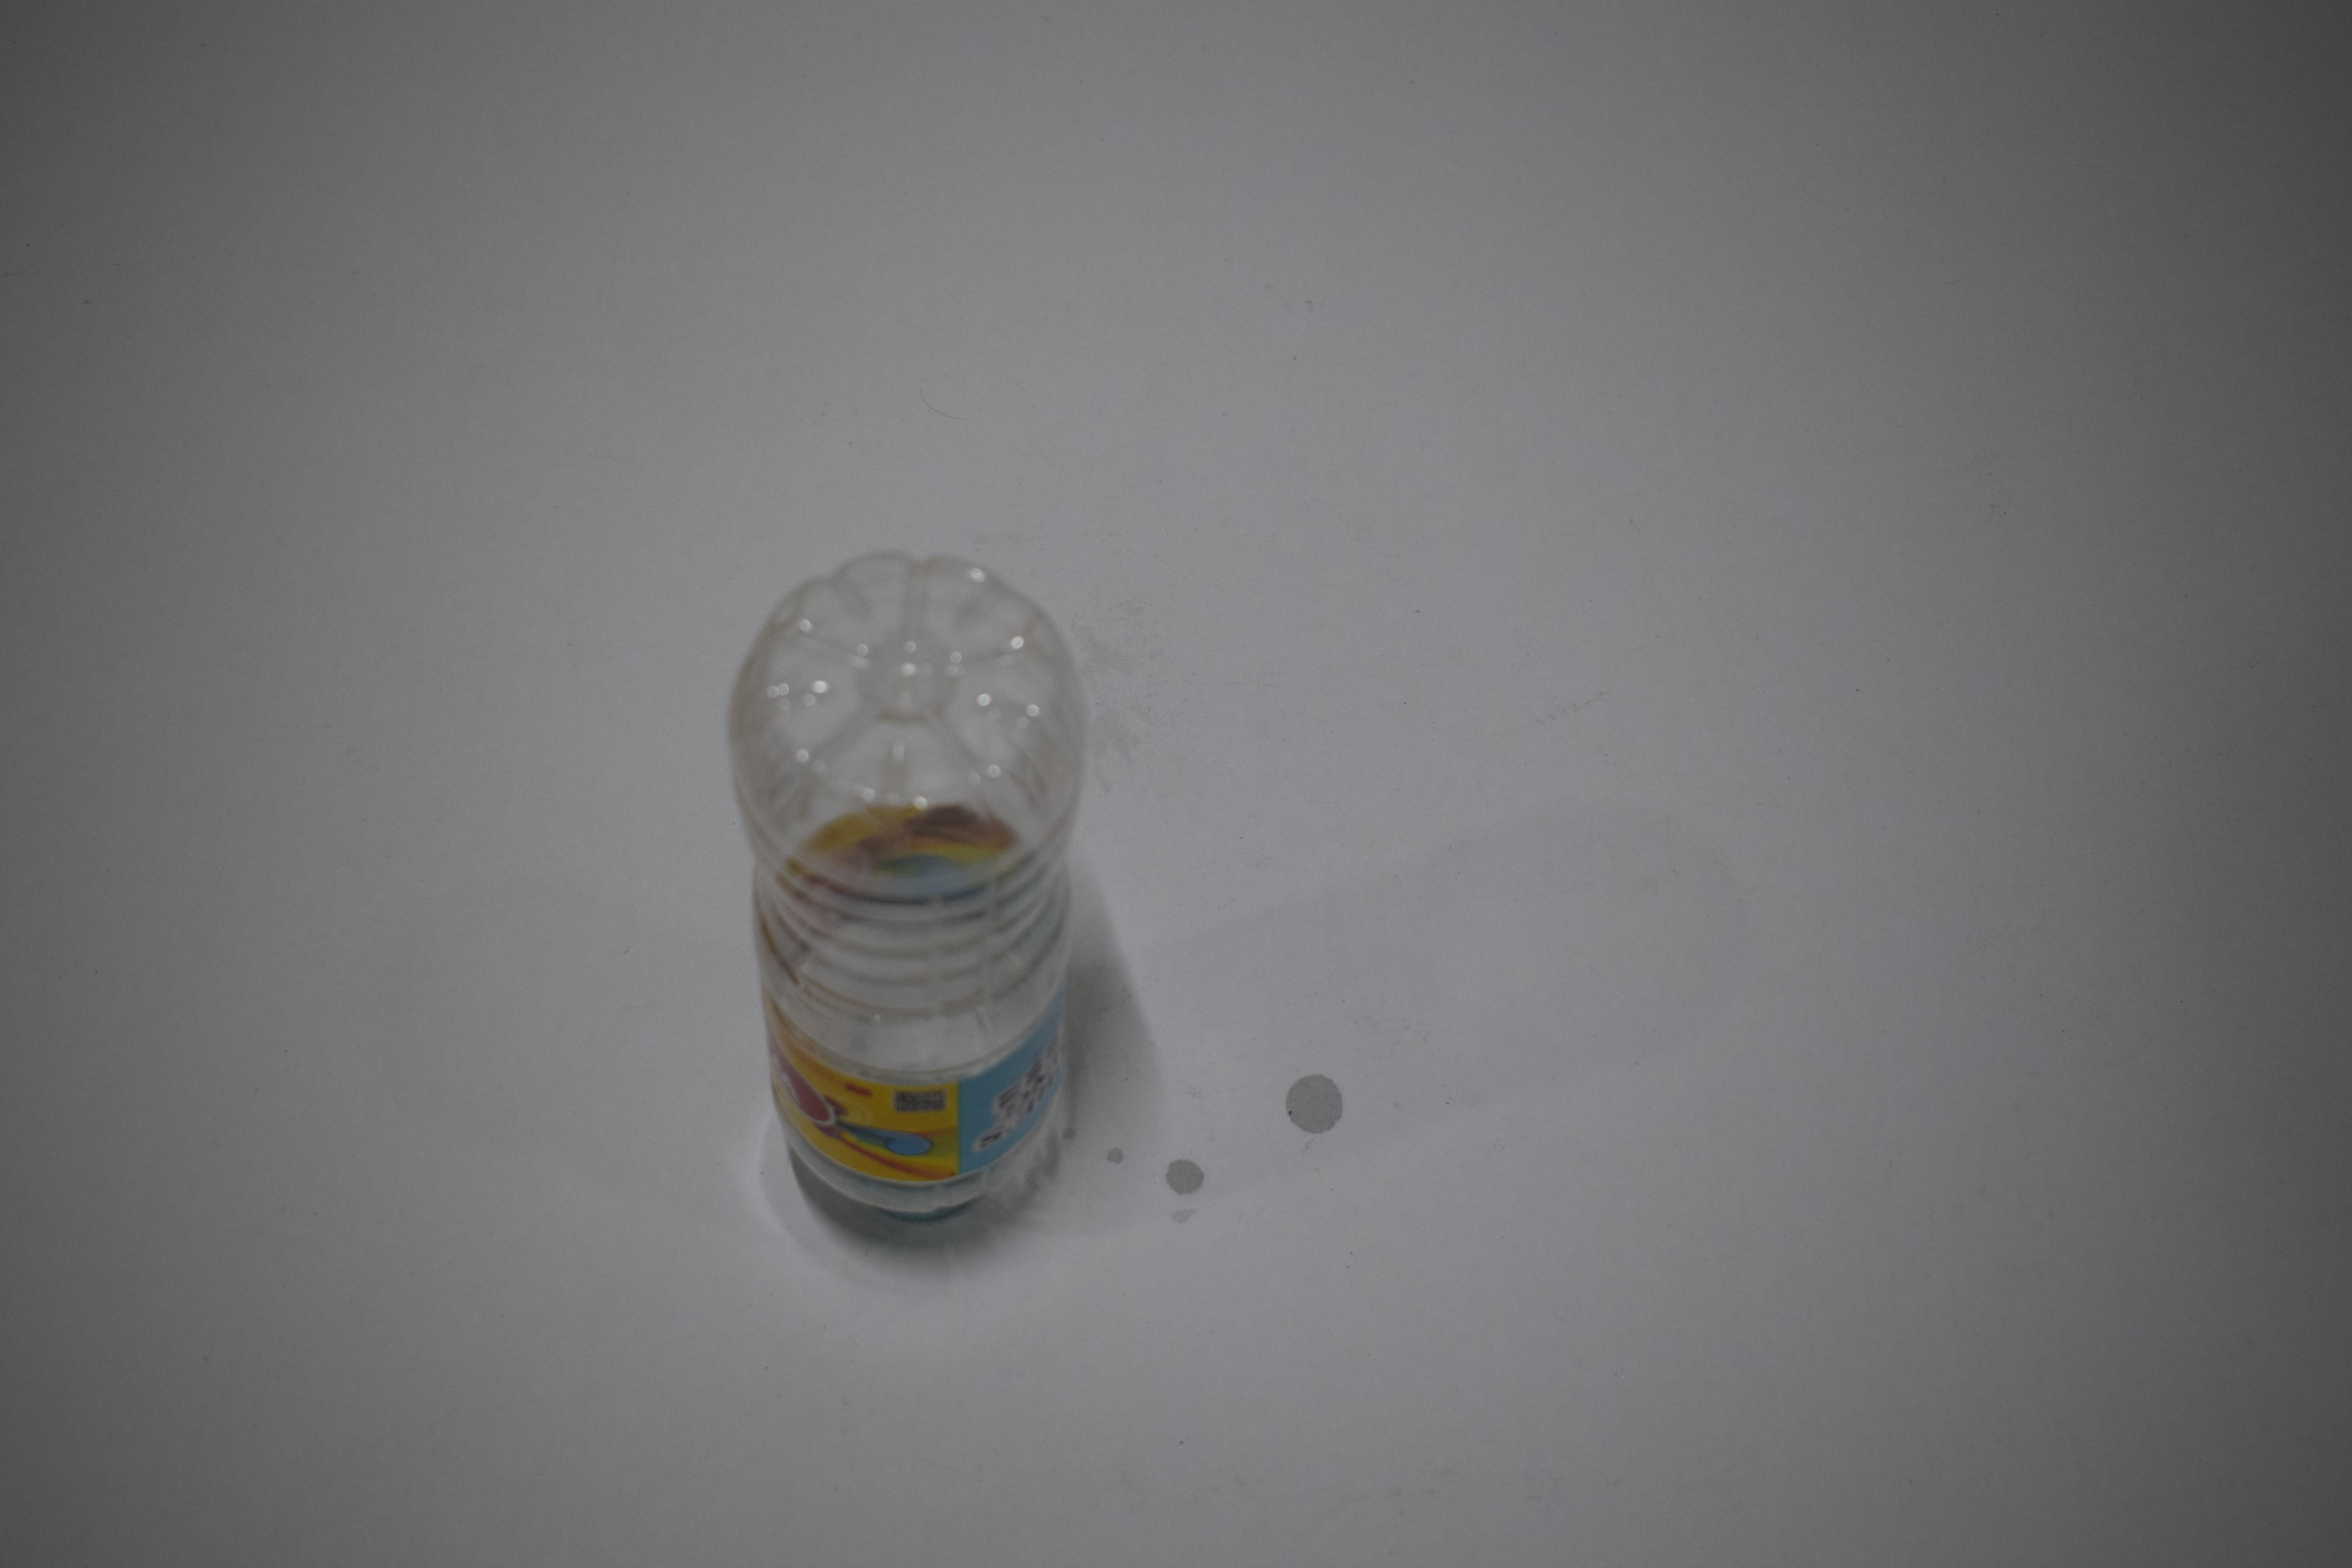bottle: (768, 0, 1024, 443)
